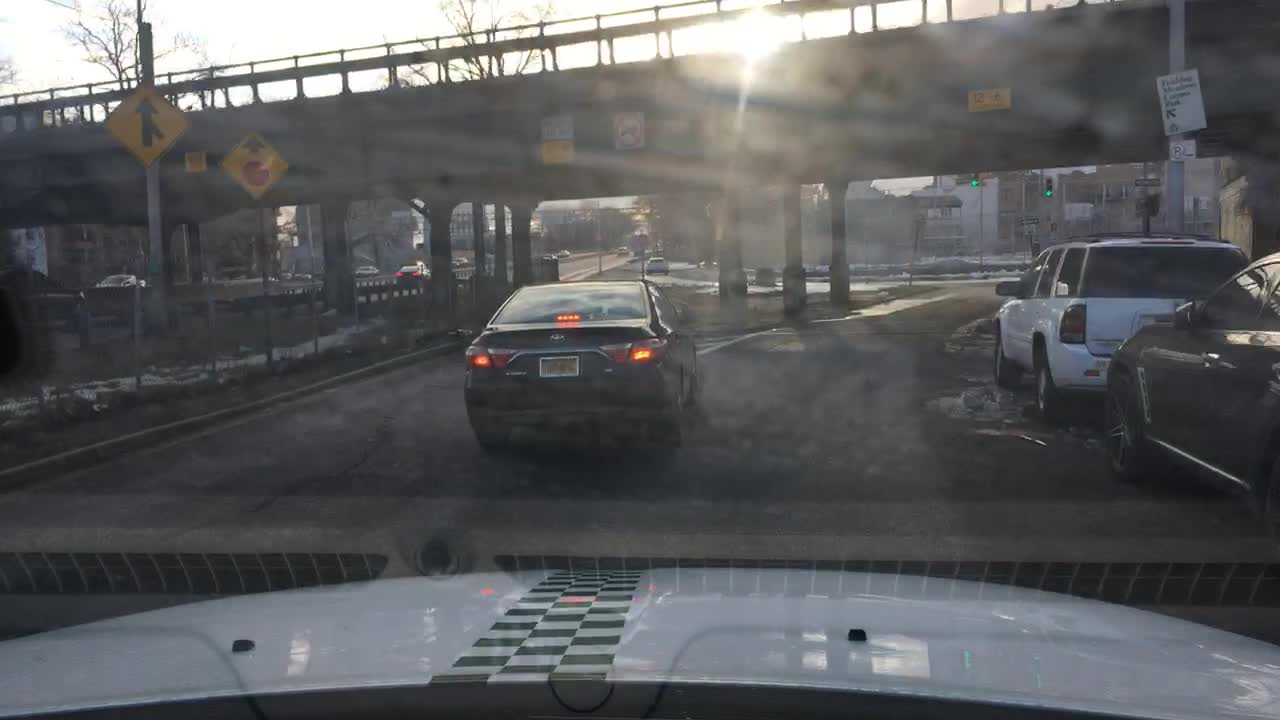car: (1096, 252, 1278, 551), (984, 232, 1250, 422), (460, 278, 701, 447), (92, 273, 145, 289), (391, 267, 427, 286), (643, 254, 671, 277), (286, 270, 320, 284), (353, 263, 379, 275), (450, 255, 470, 267), (615, 243, 630, 258), (252, 272, 275, 281), (403, 259, 427, 267), (555, 248, 571, 257)
traffic light: (1041, 174, 1054, 200), (960, 169, 970, 188), (970, 172, 980, 189), (980, 172, 990, 187)
traffic sign: (98, 82, 192, 162), (215, 131, 293, 202), (1156, 67, 1207, 137), (612, 107, 646, 153), (964, 87, 1010, 112), (540, 112, 572, 140), (1134, 189, 1160, 220), (180, 148, 212, 173), (540, 140, 571, 165), (1166, 142, 1195, 162), (1130, 177, 1161, 187)
